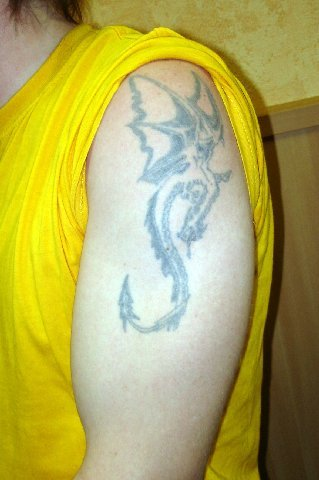tatu6_drakon: (107, 60, 238, 340)
